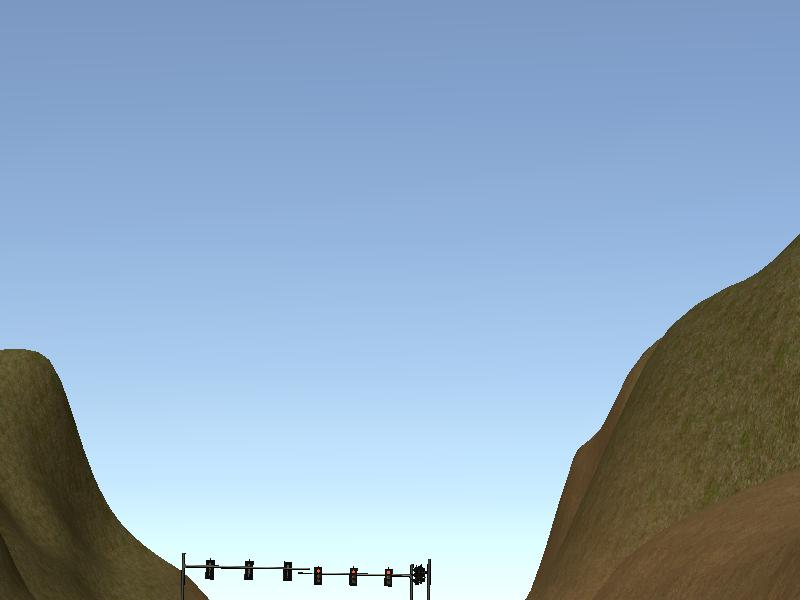Red: (312, 567, 323, 585), (384, 568, 392, 586), (349, 569, 357, 585)
